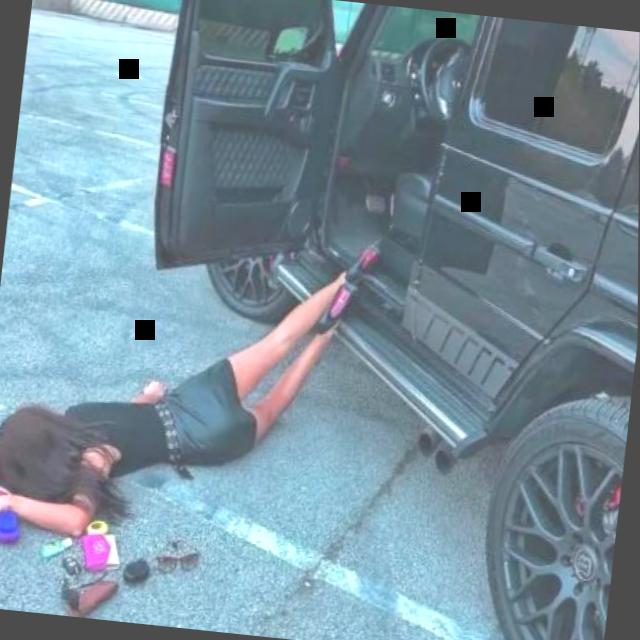Fall-Detected: (0, 192, 386, 591)
